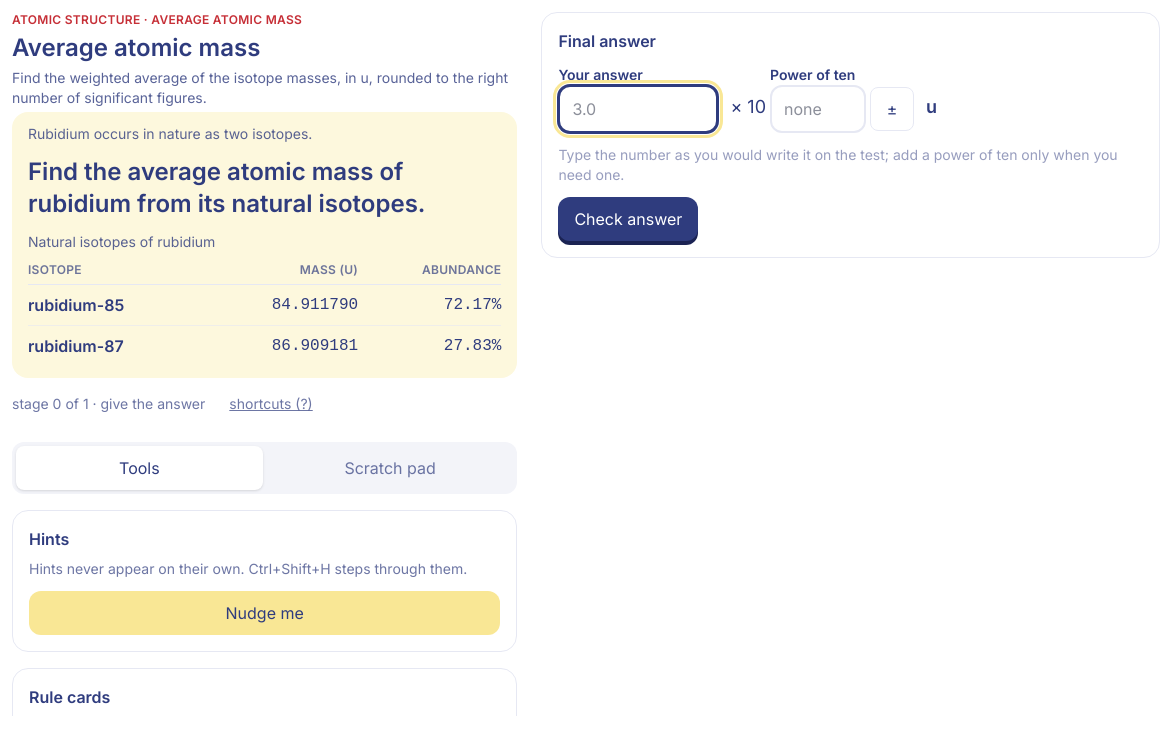
AtomFlow: average atomic mass › a figure slip comes from the sig-fig grader
The width and height of the screenshot is (1164, 732).
Step 1. Type "85.470" into the field labelled "Your answer" → (638, 109), box [558,85,718,133]
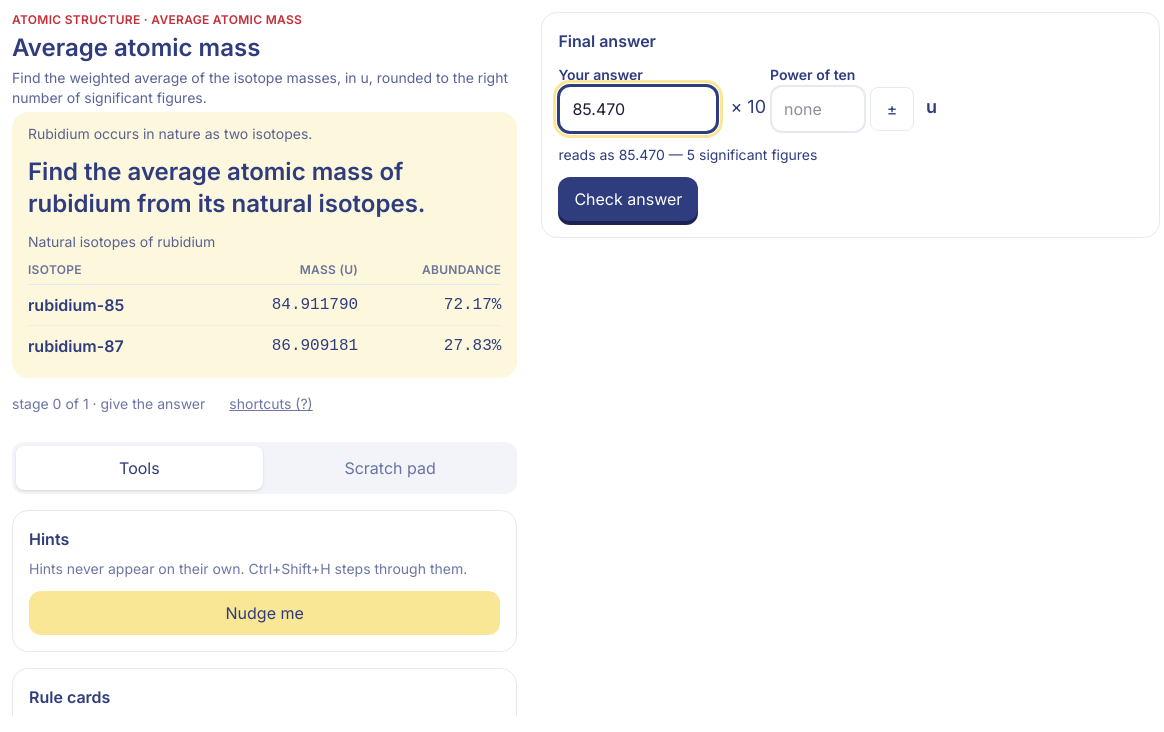
Step 2. Click the button "Check answer" → (628, 199), box [558,177,698,221]
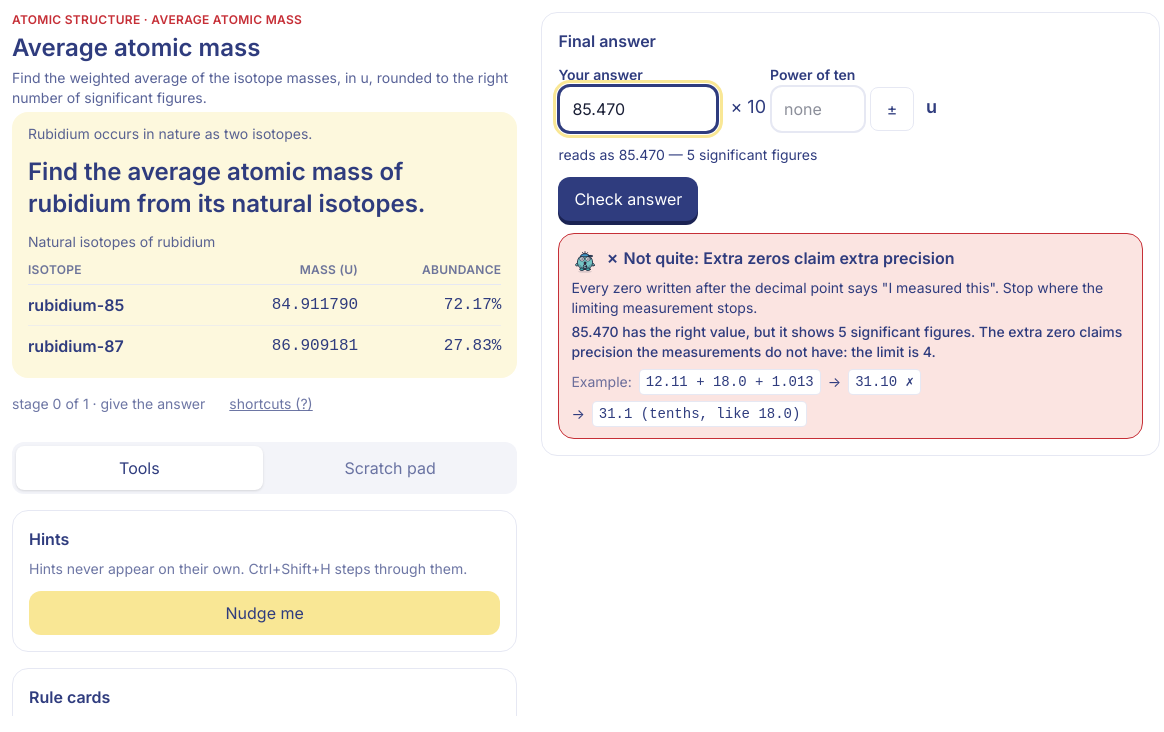
Now the message shows "Extra zeros claim extra precision", box [624,248,954,268]
